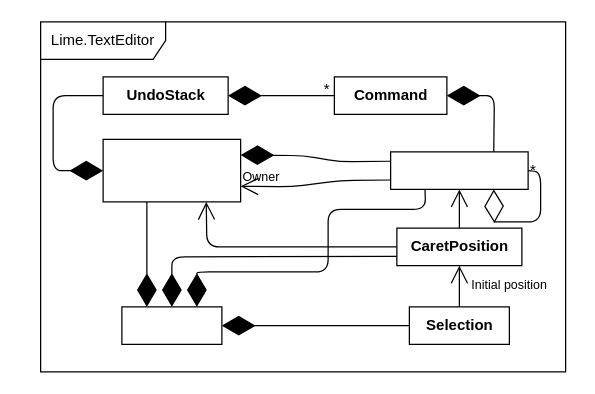
Some shapes in this 595 by 394 pixel diagram are drawn without their labels. Here are the shapes that lost their labels. From the top down, the centre of each, then its label:
At point (171, 170): "PieceTree".
At point (458, 170): "PieceTreeNode".
At point (171, 325): "SubEditor".
